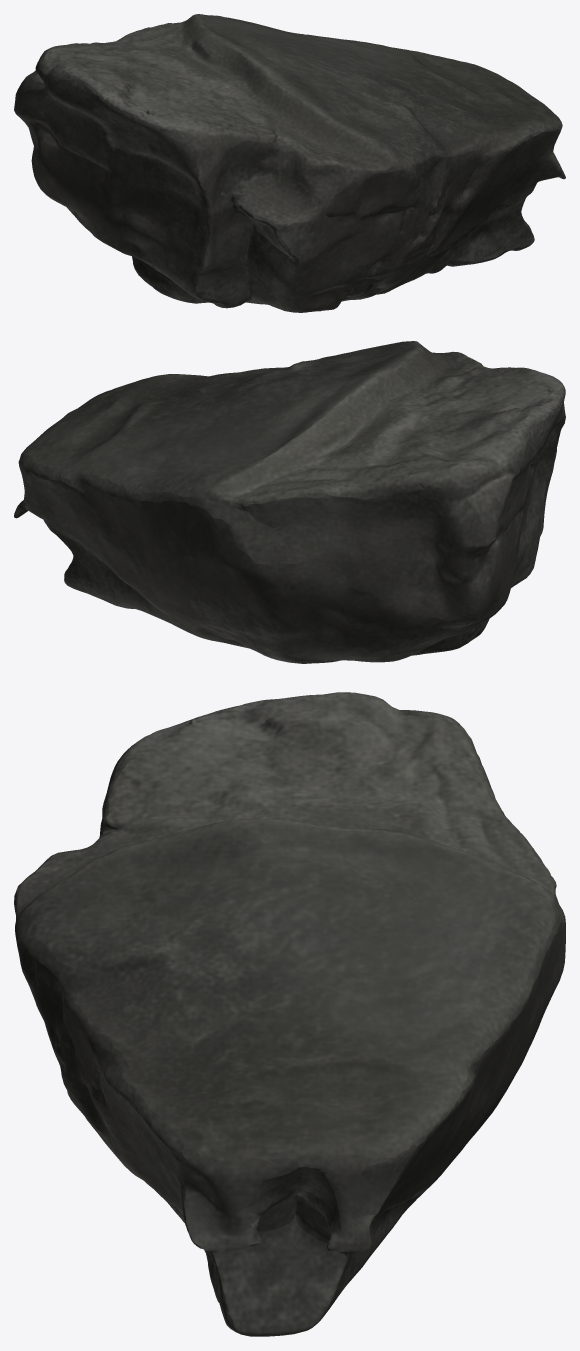
3 renders of one model, top to bottom at view 1: azimuth 30°, elevation 25°; view 2: azimuth 150°, elevation 25°; view 3: azimuth 270°, elevation 25°, orthographic. The views are drawn at different scales.
Visible parts, largest first — view 1: world; view 2: world; view 3: world.
Part boxes in pixels (bbox=[...]): world: bbox=[14, 14, 565, 312]; world: bbox=[14, 341, 565, 663]; world: bbox=[14, 692, 565, 1336].
Size of the model in its own units: 3 by 1.58 by 2.21.
Materials: 1 (1 with a texture image).
